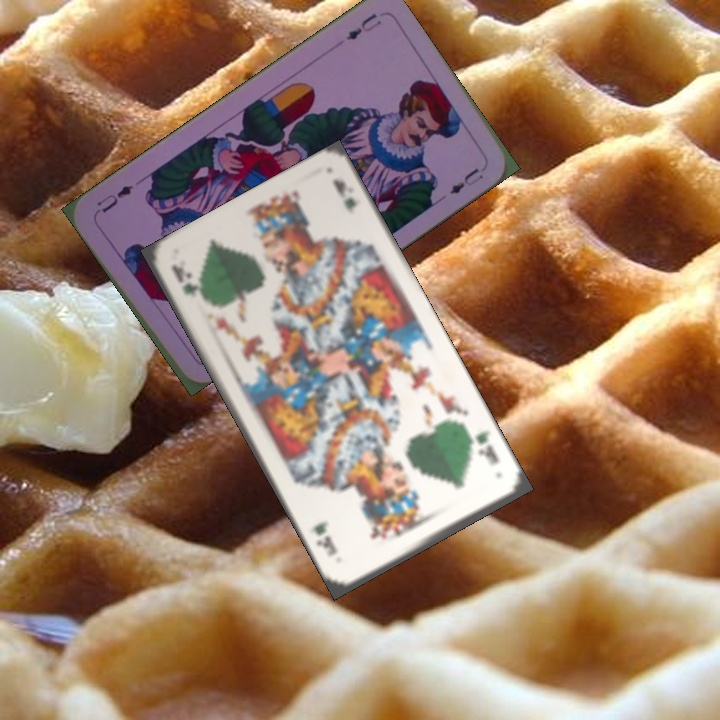EU: (341, 9, 384, 43)
GK: (463, 426, 502, 468), (167, 260, 200, 299)
